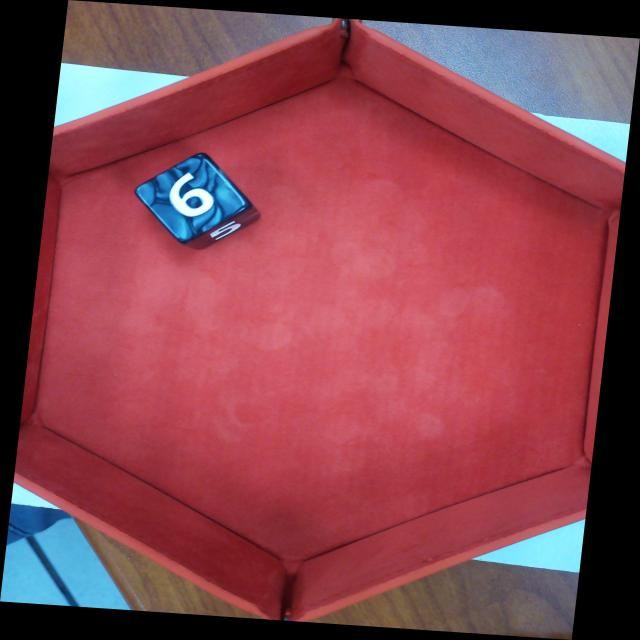dice: (134, 153, 249, 243)
